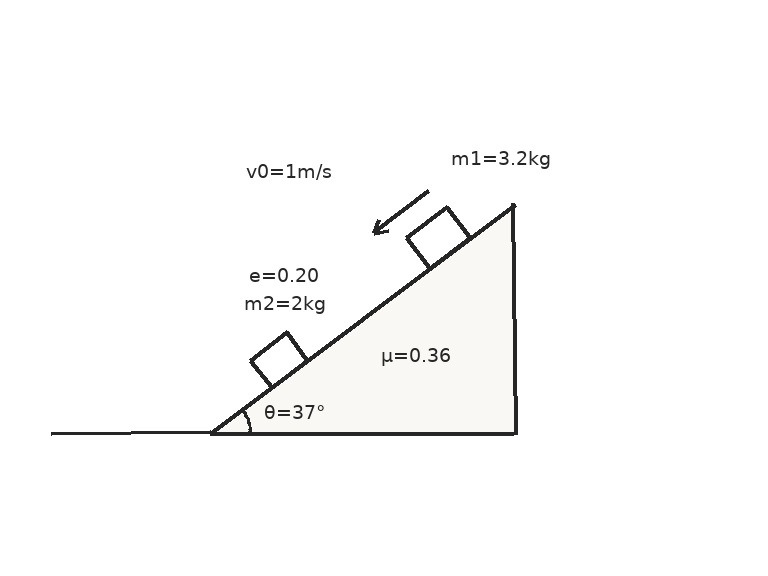block: (404, 205, 472, 270), (248, 330, 310, 389)
ramp: (208, 202, 516, 435)
